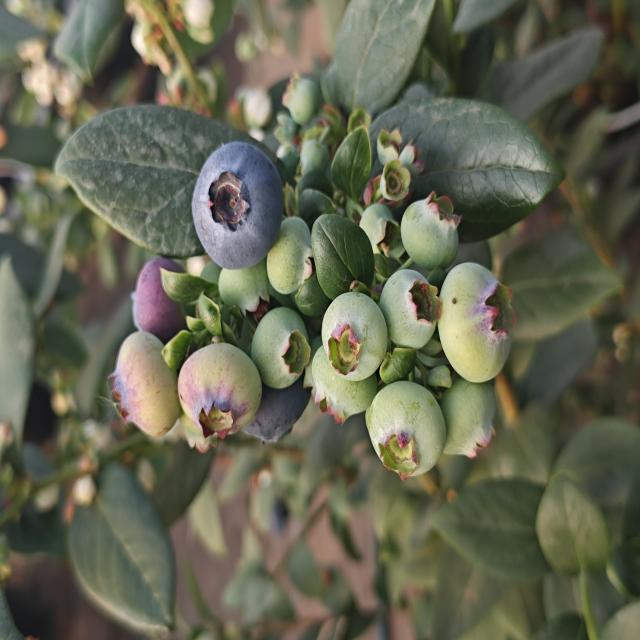ripe: (189, 128, 287, 274), (235, 357, 316, 453), (127, 248, 203, 345)
